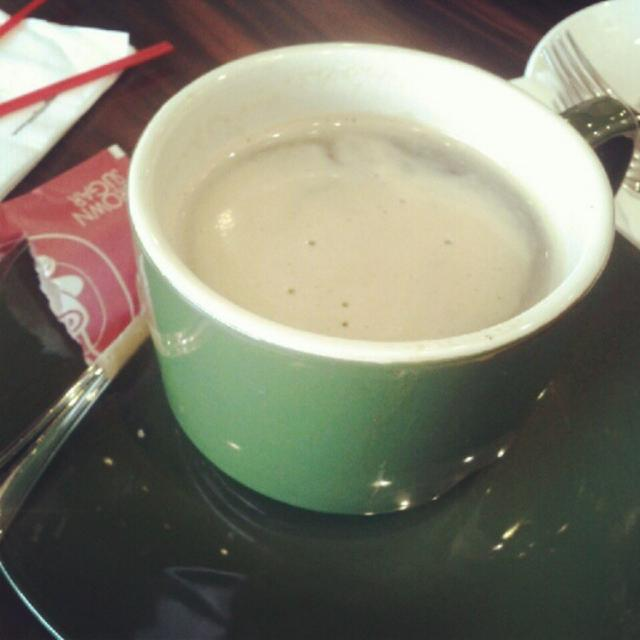Coffee: (180, 121, 549, 341)
